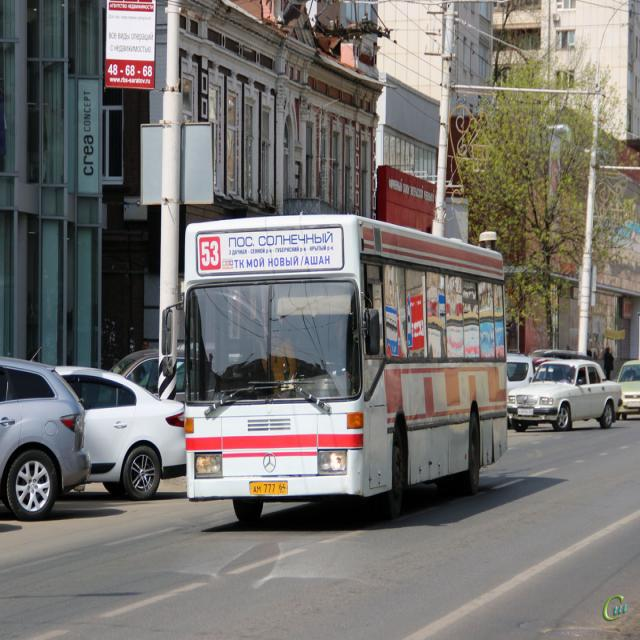number-of-bus: (199, 233, 222, 273)
